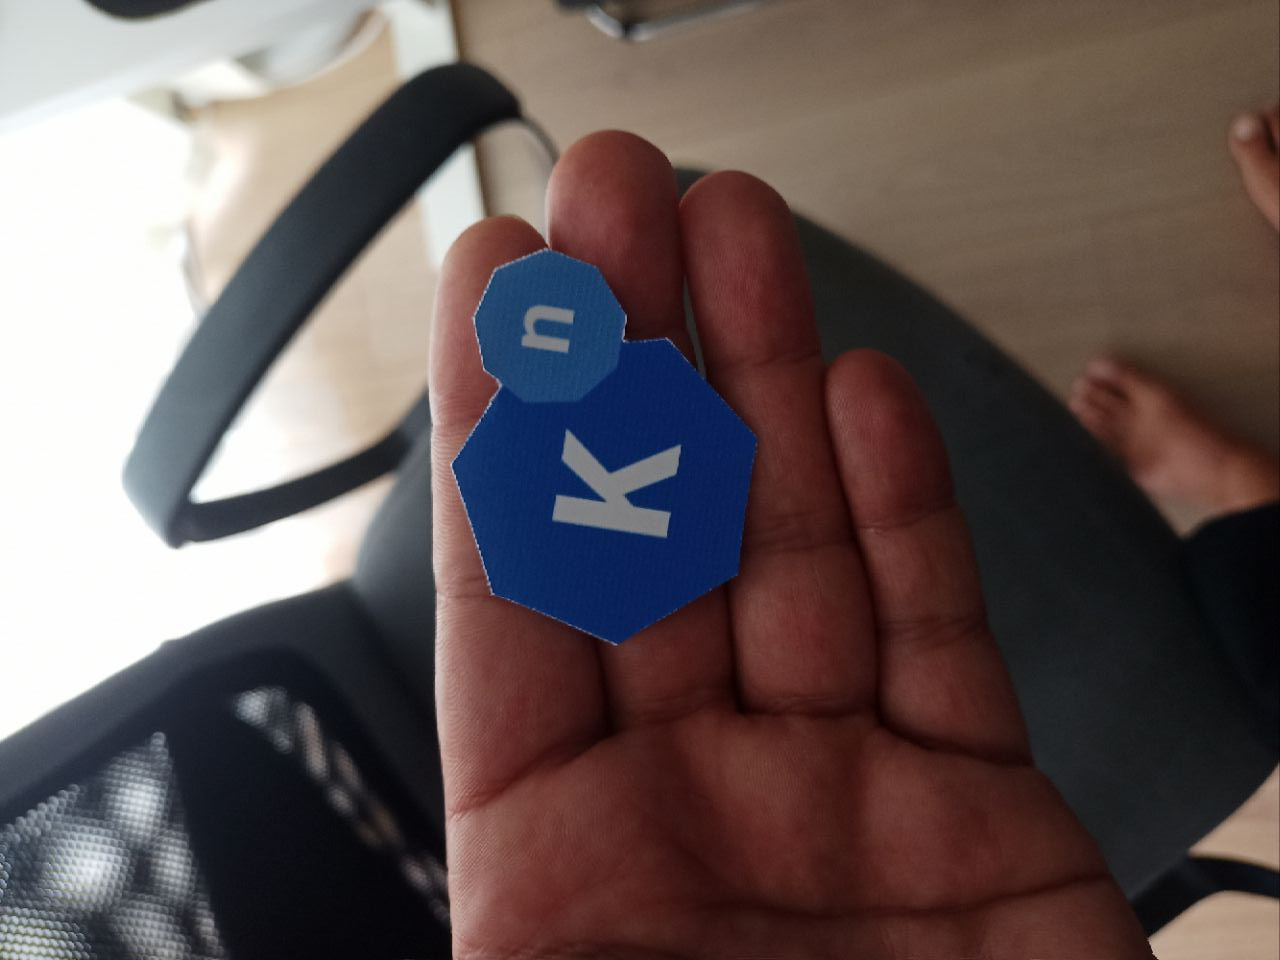knative: (444, 245, 755, 653)
